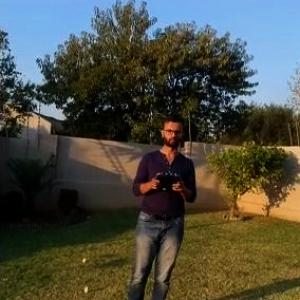follow: (122, 107, 200, 299)
